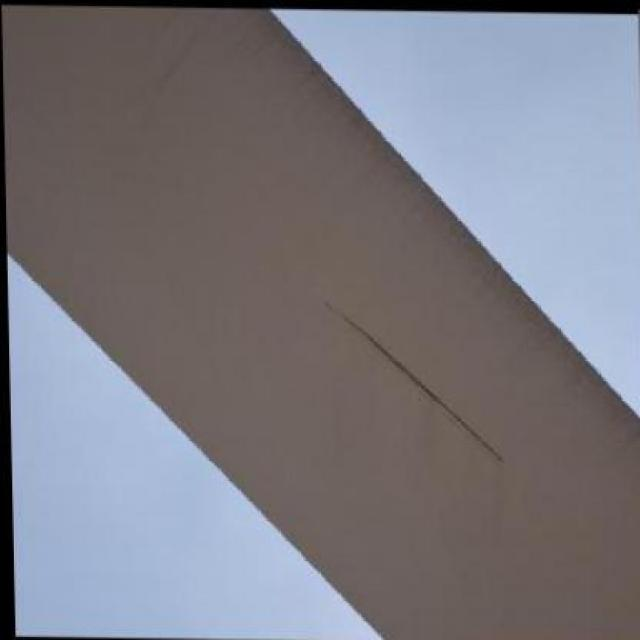Crack: (321, 305, 505, 464)
